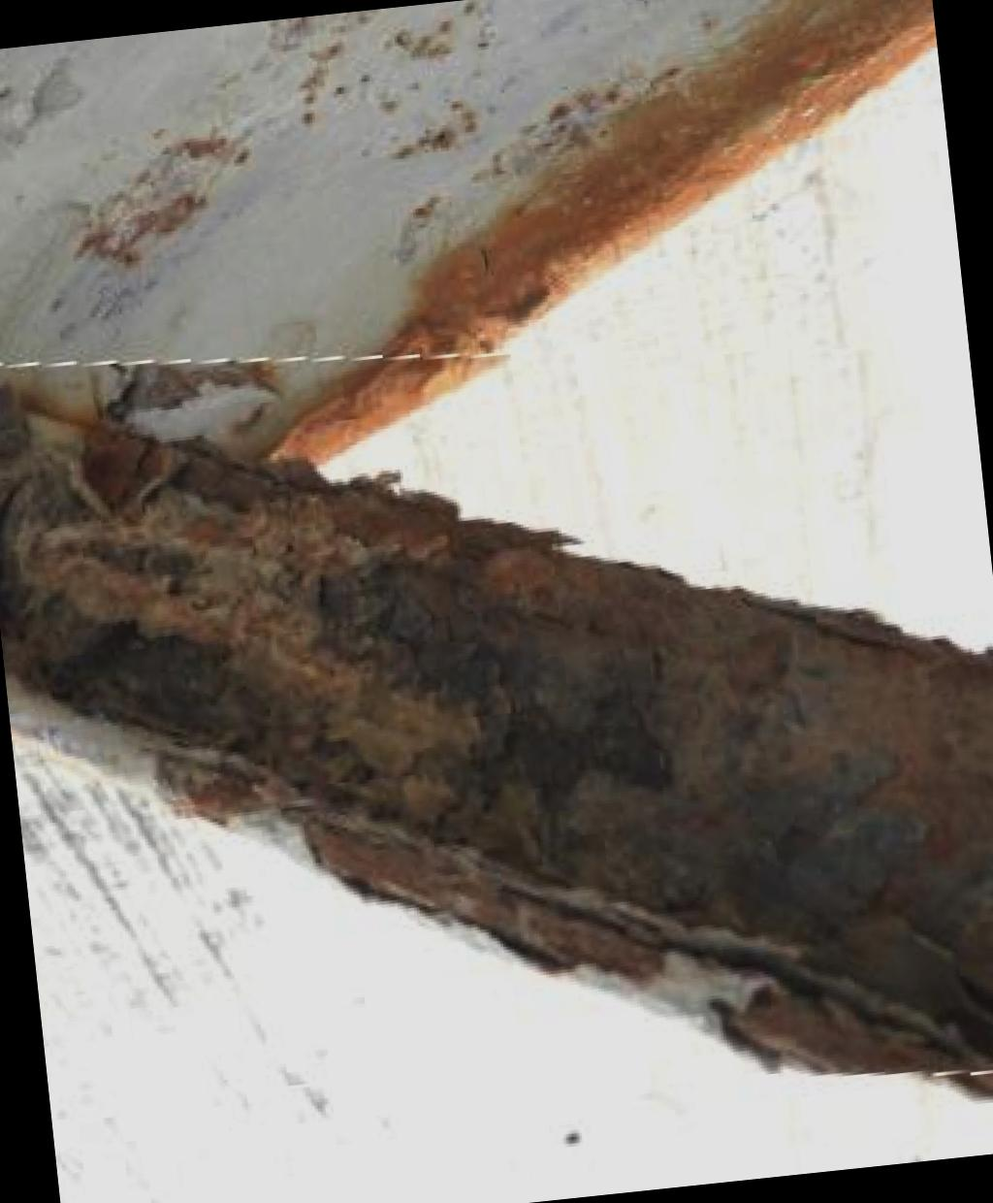corrosion: (0, 275, 993, 1203)
